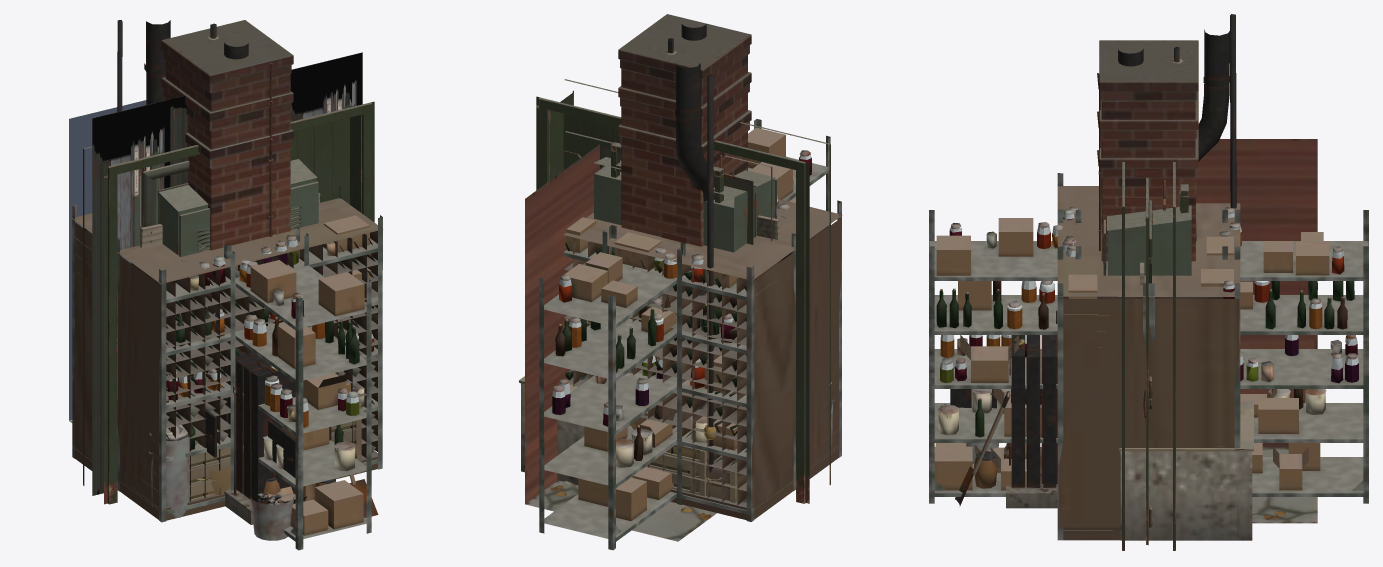
Rendered from concrete.glb.
3 renders of one model, left to right at view 1: azimuth 30°, elevation 25°; view 2: azimuth 150°, elevation 25°; view 3: azimuth 270°, elevation 25°, orthographic. The views are drawn at different scales.
Visible parts, largest first — view 1: Isl_wine_rack, Solid_shelf_rack, Door_closed_concrete_p0, Isl_shelving_double, Col_brick_pier_H330, Door_frame_concrete, Solid_boiler_wall, Col_brick_pier_H270, Isl_boiler, Col_brick_pier_H300, Door_leaf_concrete, Exit_concrete_p1 (+6 smaller); view 2: Isl_wine_rack, Solid_shelf_rack, Exit_concrete_p0, Isl_shelving_double, Col_brick_pier_H330, Door_frame_concrete, Col_brick_pier_H300, Isl_boiler, Ward_body_concrete, Col_brick_pier_H270, Door_leaf_concrete, Isl_crate_stack (+1 smaller); view 3: Solid_shelf_rack, Isl_wine_rack, Isl_boiler, Exit_concrete_p0, Solid_boiler_wall, Col_brick_pier_H330, Isl_shelving_double, Col_brick_pier_H300, Col_brick_pier_H270, Ward_body_concrete, Door_frame_concrete, Door_leaf_concrete.
Part boxes in pixels (left/top/right/bottom): Isl_wine_rack: left=71, top=198, right=383, bottom=520; Solid_shelf_rack: left=224, top=227, right=371, bottom=550; Door_closed_concrete_p0: left=92, top=52, right=362, bottom=495; Isl_shelving_double: left=72, top=186, right=382, bottom=522; Col_brick_pier_H330: left=161, top=20, right=293, bottom=250; Door_frame_concrete: left=83, top=101, right=374, bottom=504; Solid_boiler_wall: left=220, top=42, right=378, bottom=540; Col_brick_pier_H270: left=185, top=129, right=293, bottom=250; Isl_boiler: left=117, top=20, right=218, bottom=518; Col_brick_pier_H300: left=161, top=77, right=293, bottom=249; Door_leaf_concrete: left=290, top=118, right=349, bottom=203; Exit_concrete_p1: left=69, top=100, right=146, bottom=420; Isl_wine_rack: left=563, top=199, right=842, bottom=519; Solid_shelf_rack: left=539, top=119, right=830, bottom=550; Exit_concrete_p0: left=525, top=144, right=772, bottom=541; Isl_shelving_double: left=563, top=195, right=841, bottom=521; Col_brick_pier_H330: left=618, top=14, right=751, bottom=246; Door_frame_concrete: left=536, top=79, right=830, bottom=503; Col_brick_pier_H300: left=618, top=72, right=751, bottom=246; Isl_boiler: left=519, top=38, right=834, bottom=484; Ward_body_concrete: left=594, top=157, right=775, bottom=252; Col_brick_pier_H270: left=618, top=110, right=751, bottom=243; Door_leaf_concrete: left=563, top=113, right=619, bottom=170; Isl_crate_stack: left=631, top=444, right=707, bottom=496; Solid_shelf_rack: left=929, top=210, right=1368, bottom=503; Isl_wine_rack: left=1057, top=186, right=1240, bottom=540; Isl_boiler: left=1119, top=14, right=1253, bottom=540; Exit_concrete_p0: left=1148, top=139, right=1317, bottom=523; Solid_boiler_wall: left=950, top=48, right=1143, bottom=508; Col_brick_pier_H330: left=1097, top=40, right=1198, bottom=254; Isl_shelving_double: left=1057, top=173, right=1240, bottom=540; Col_brick_pier_H300: left=1097, top=91, right=1198, bottom=260; Col_brick_pier_H270: left=1097, top=130, right=1198, bottom=261; Ward_body_concrete: left=1107, top=205, right=1191, bottom=275; Door_frame_concrete: left=1122, top=162, right=1175, bottom=550; Door_leaf_concrete: left=1143, top=177, right=1152, bottom=545.
Bounding box in the file's own units: 2.25 × 3.56 × 3.1.
Materials: 36 (32 with a texture image).
